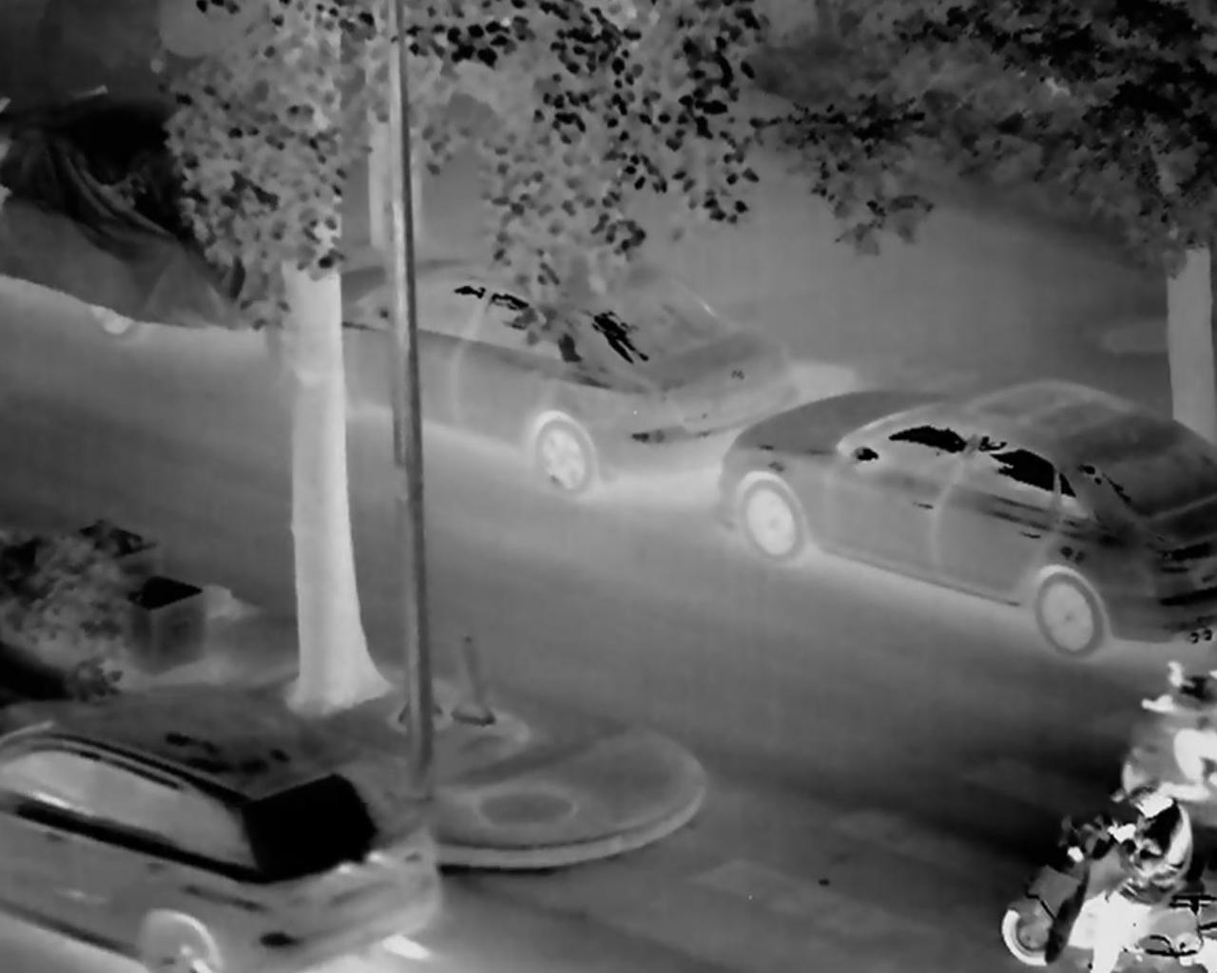person: (1083, 777, 1193, 973), (1144, 650, 1217, 802)
